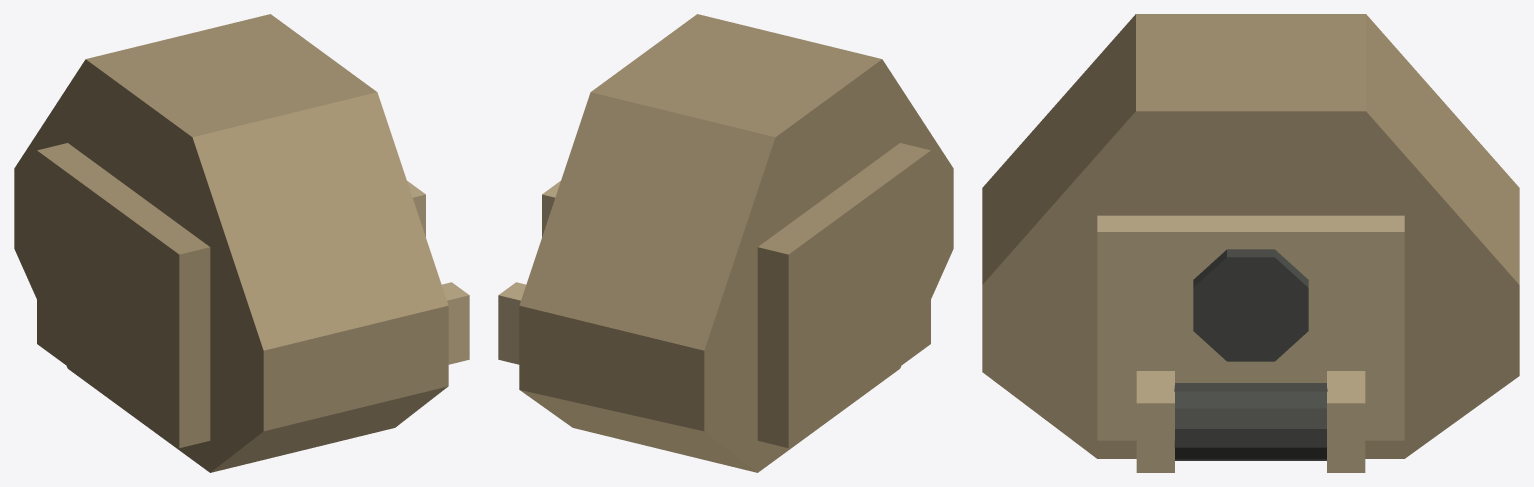
Rendered from GPNVG_Mount.obj.
The picture shows the model from 3 angles, left to right: view 1: azimuth 30°, elevation 25°; view 2: azimuth 150°, elevation 25°; view 3: azimuth 270°, elevation 25°; orthographic projection. The views are drawn at different scales.
Parts seen in each view (by area): view 1: shroud, shroud_connect, swing_guard_right; view 2: shroud, shroud_connect, swing_guard_left; view 3: shroud, shroud_connect, swing, big_screw, swing_guard_left, swing_guard_right.
Part boxes in pixels (x1,y1,x2,y2): shroud: (14, 14, 448, 472); shroud_connect: (37, 143, 425, 447); swing_guard_right: (442, 282, 469, 364); shroud: (519, 14, 953, 472); shroud_connect: (542, 143, 930, 447); swing_guard_left: (498, 282, 525, 364); shroud: (982, 14, 1519, 458); shroud_connect: (1097, 215, 1404, 440); swing: (1174, 383, 1327, 460); big_screw: (1193, 249, 1308, 361); swing_guard_left: (1327, 371, 1365, 472); swing_guard_right: (1136, 371, 1174, 472).
Bounding box in the file's own units: 0.1562 × 0.1562 × 0.2188.
Materials: 1 (1 with a texture image).
